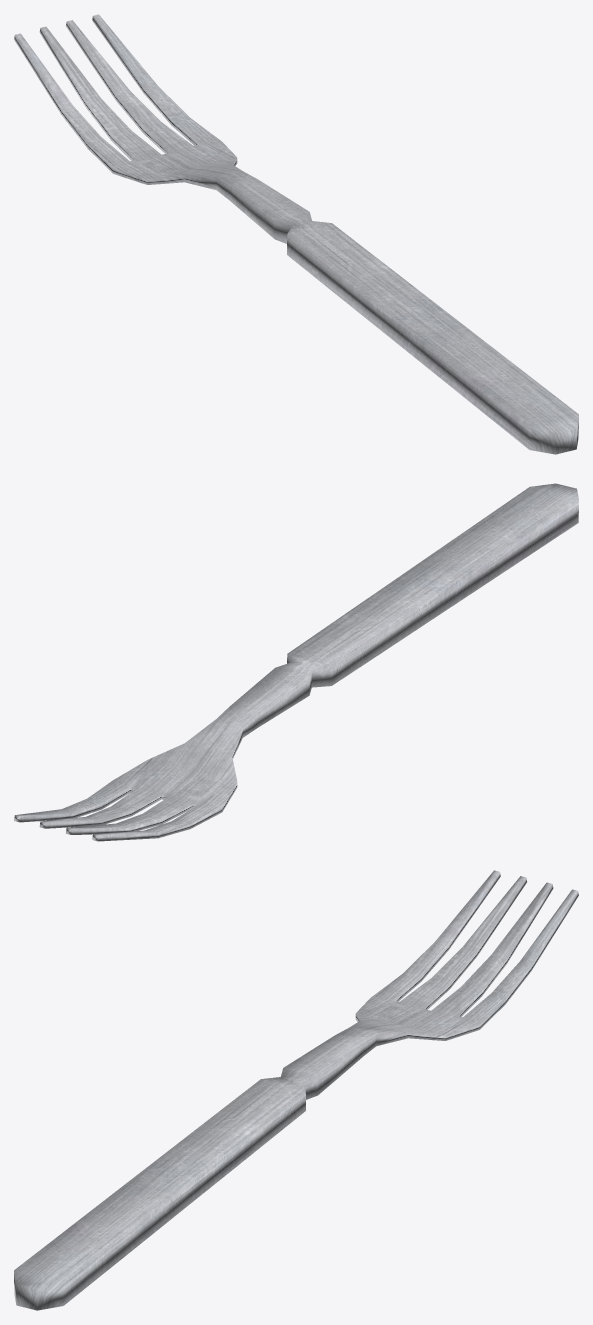
Rendered from SM_SilverwareA.FBX.
The picture shows the model from 3 angles, top to bottom: view 1: azimuth 30°, elevation 25°; view 2: azimuth 150°, elevation 25°; view 3: azimuth 330°, elevation 25°; orthographic projection.
Visible parts, largest first — view 1: SM_SilverwareA; view 2: SM_SilverwareA; view 3: SM_SilverwareA.
Boxes of the visible parts, bbox=[...] form: SM_SilverwareA: bbox=[14, 14, 578, 454]; SM_SilverwareA: bbox=[14, 483, 578, 841]; SM_SilverwareA: bbox=[14, 870, 578, 1310].
Size of the model in its own units: 2.25 by 1.1 by 18.21.
